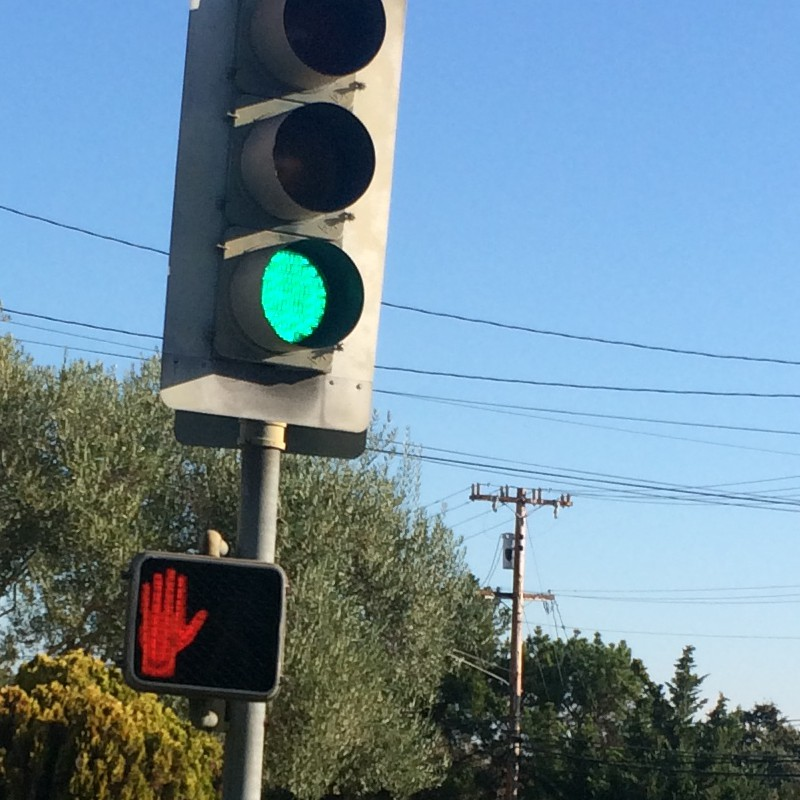stop: (128, 551, 288, 699)
